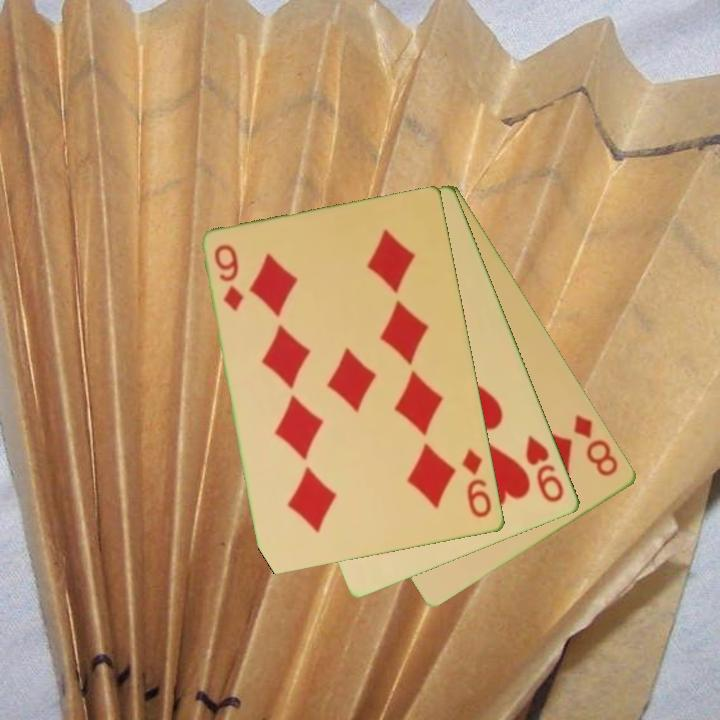8d: (570, 411, 622, 480)
9d: (459, 445, 495, 521), (211, 241, 247, 314)
9h: (522, 431, 568, 506)
